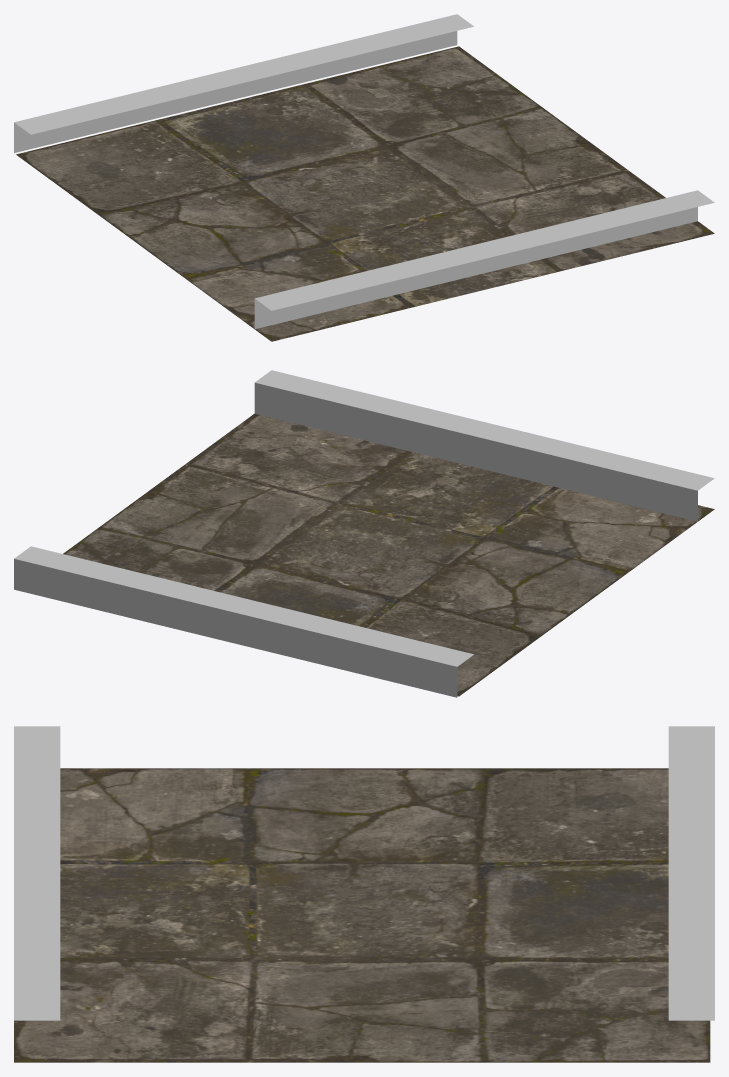
The model's file is Floor.FBX.
3 views of the same model, one above another, from view 1: azimuth 30°, elevation 25°; view 2: azimuth 150°, elevation 25°; view 3: azimuth 270°, elevation 25° (orthographic). The views are drawn at different scales.
Parts seen in each view (by area): view 1: Floor; view 2: Floor; view 3: Floor.
Part boxes in pixels (x1,y1,x2,y2): Floor: (14,14,714,341); Floor: (14,370,714,697); Floor: (14,726,714,1062).
Bounding box in the file's own units: 750 × 50 × 755.
